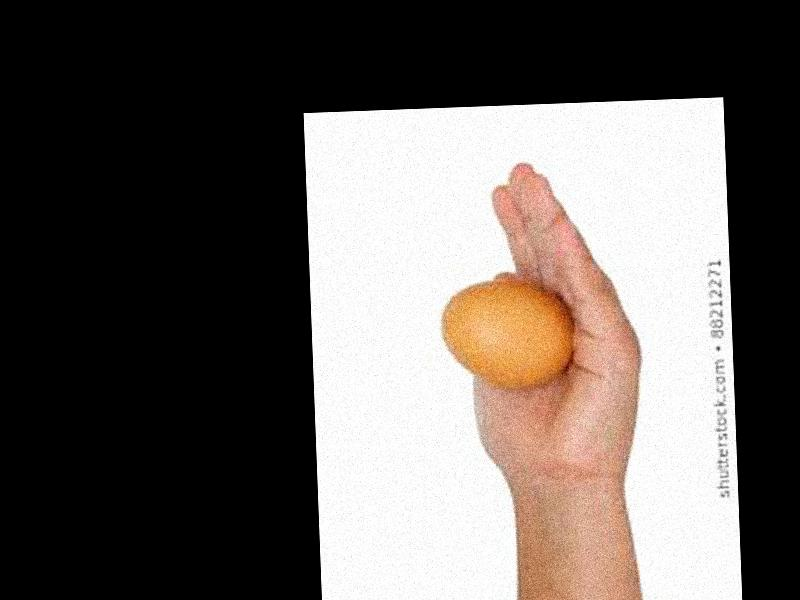Eggs: (438, 278, 577, 390)
